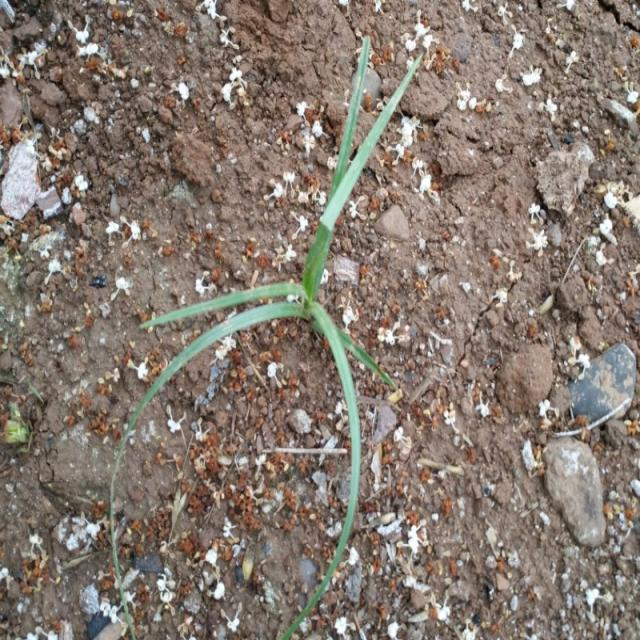sedge: (105, 75, 456, 570)
